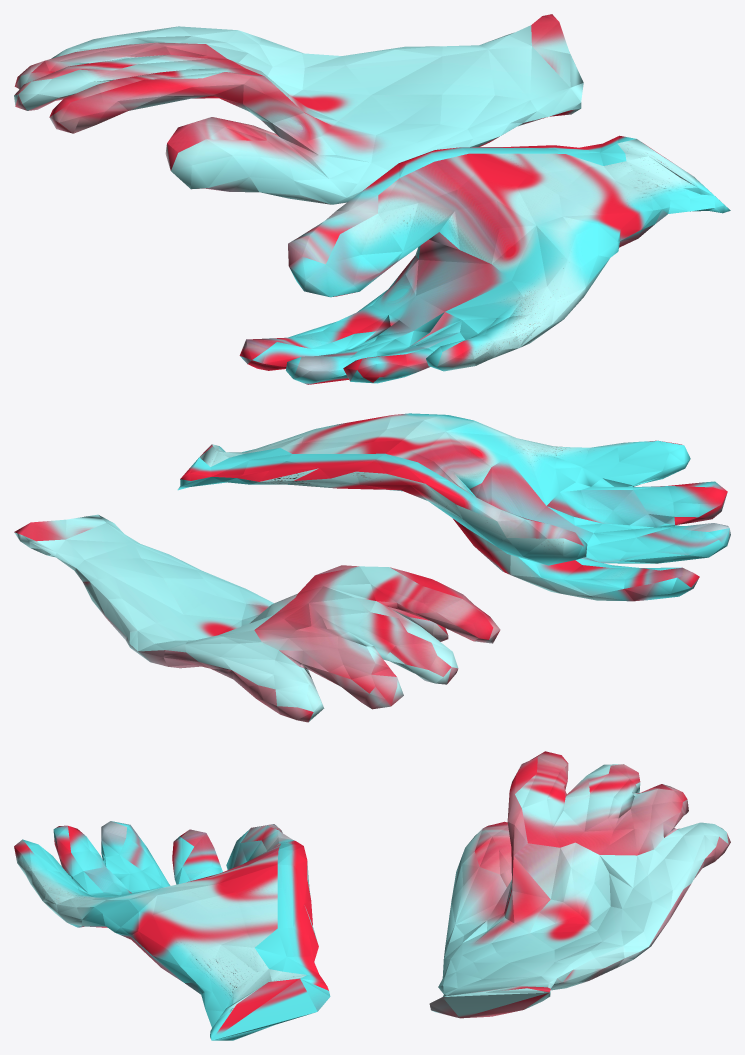
File: gloves.fbx
3 renders of one model, top to bottom at view 1: azimuth 30°, elevation 25°; view 2: azimuth 150°, elevation 25°; view 3: azimuth 270°, elevation 25°, orthographic. The views are drawn at different scales.
Visible parts, largest first — view 1: right, left hand; view 2: right, left hand; view 3: left hand, right.
Boxes of the visible parts, bbox=[...] form: right: bbox=[239, 135, 730, 384]; left hand: bbox=[14, 14, 583, 204]; right: bbox=[178, 413, 730, 601]; left hand: bbox=[14, 514, 500, 722]; left hand: bbox=[429, 751, 730, 1018]; right: bbox=[14, 821, 330, 1040].
Size of the model in its own units: 2953 by 783 by 4011.
2 materials, 2 textured.
